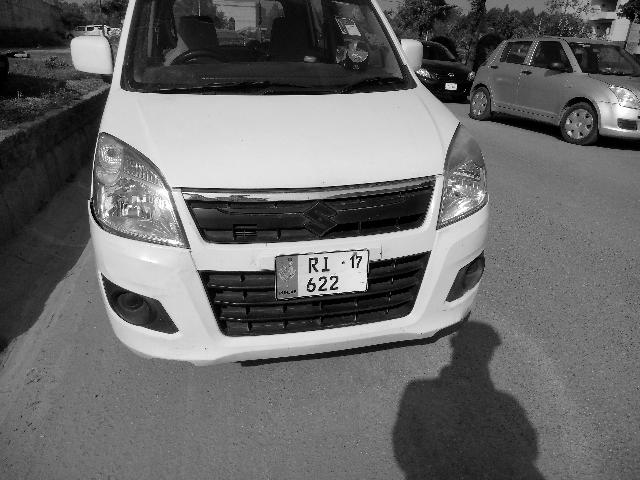Number: (303, 253, 342, 294)
